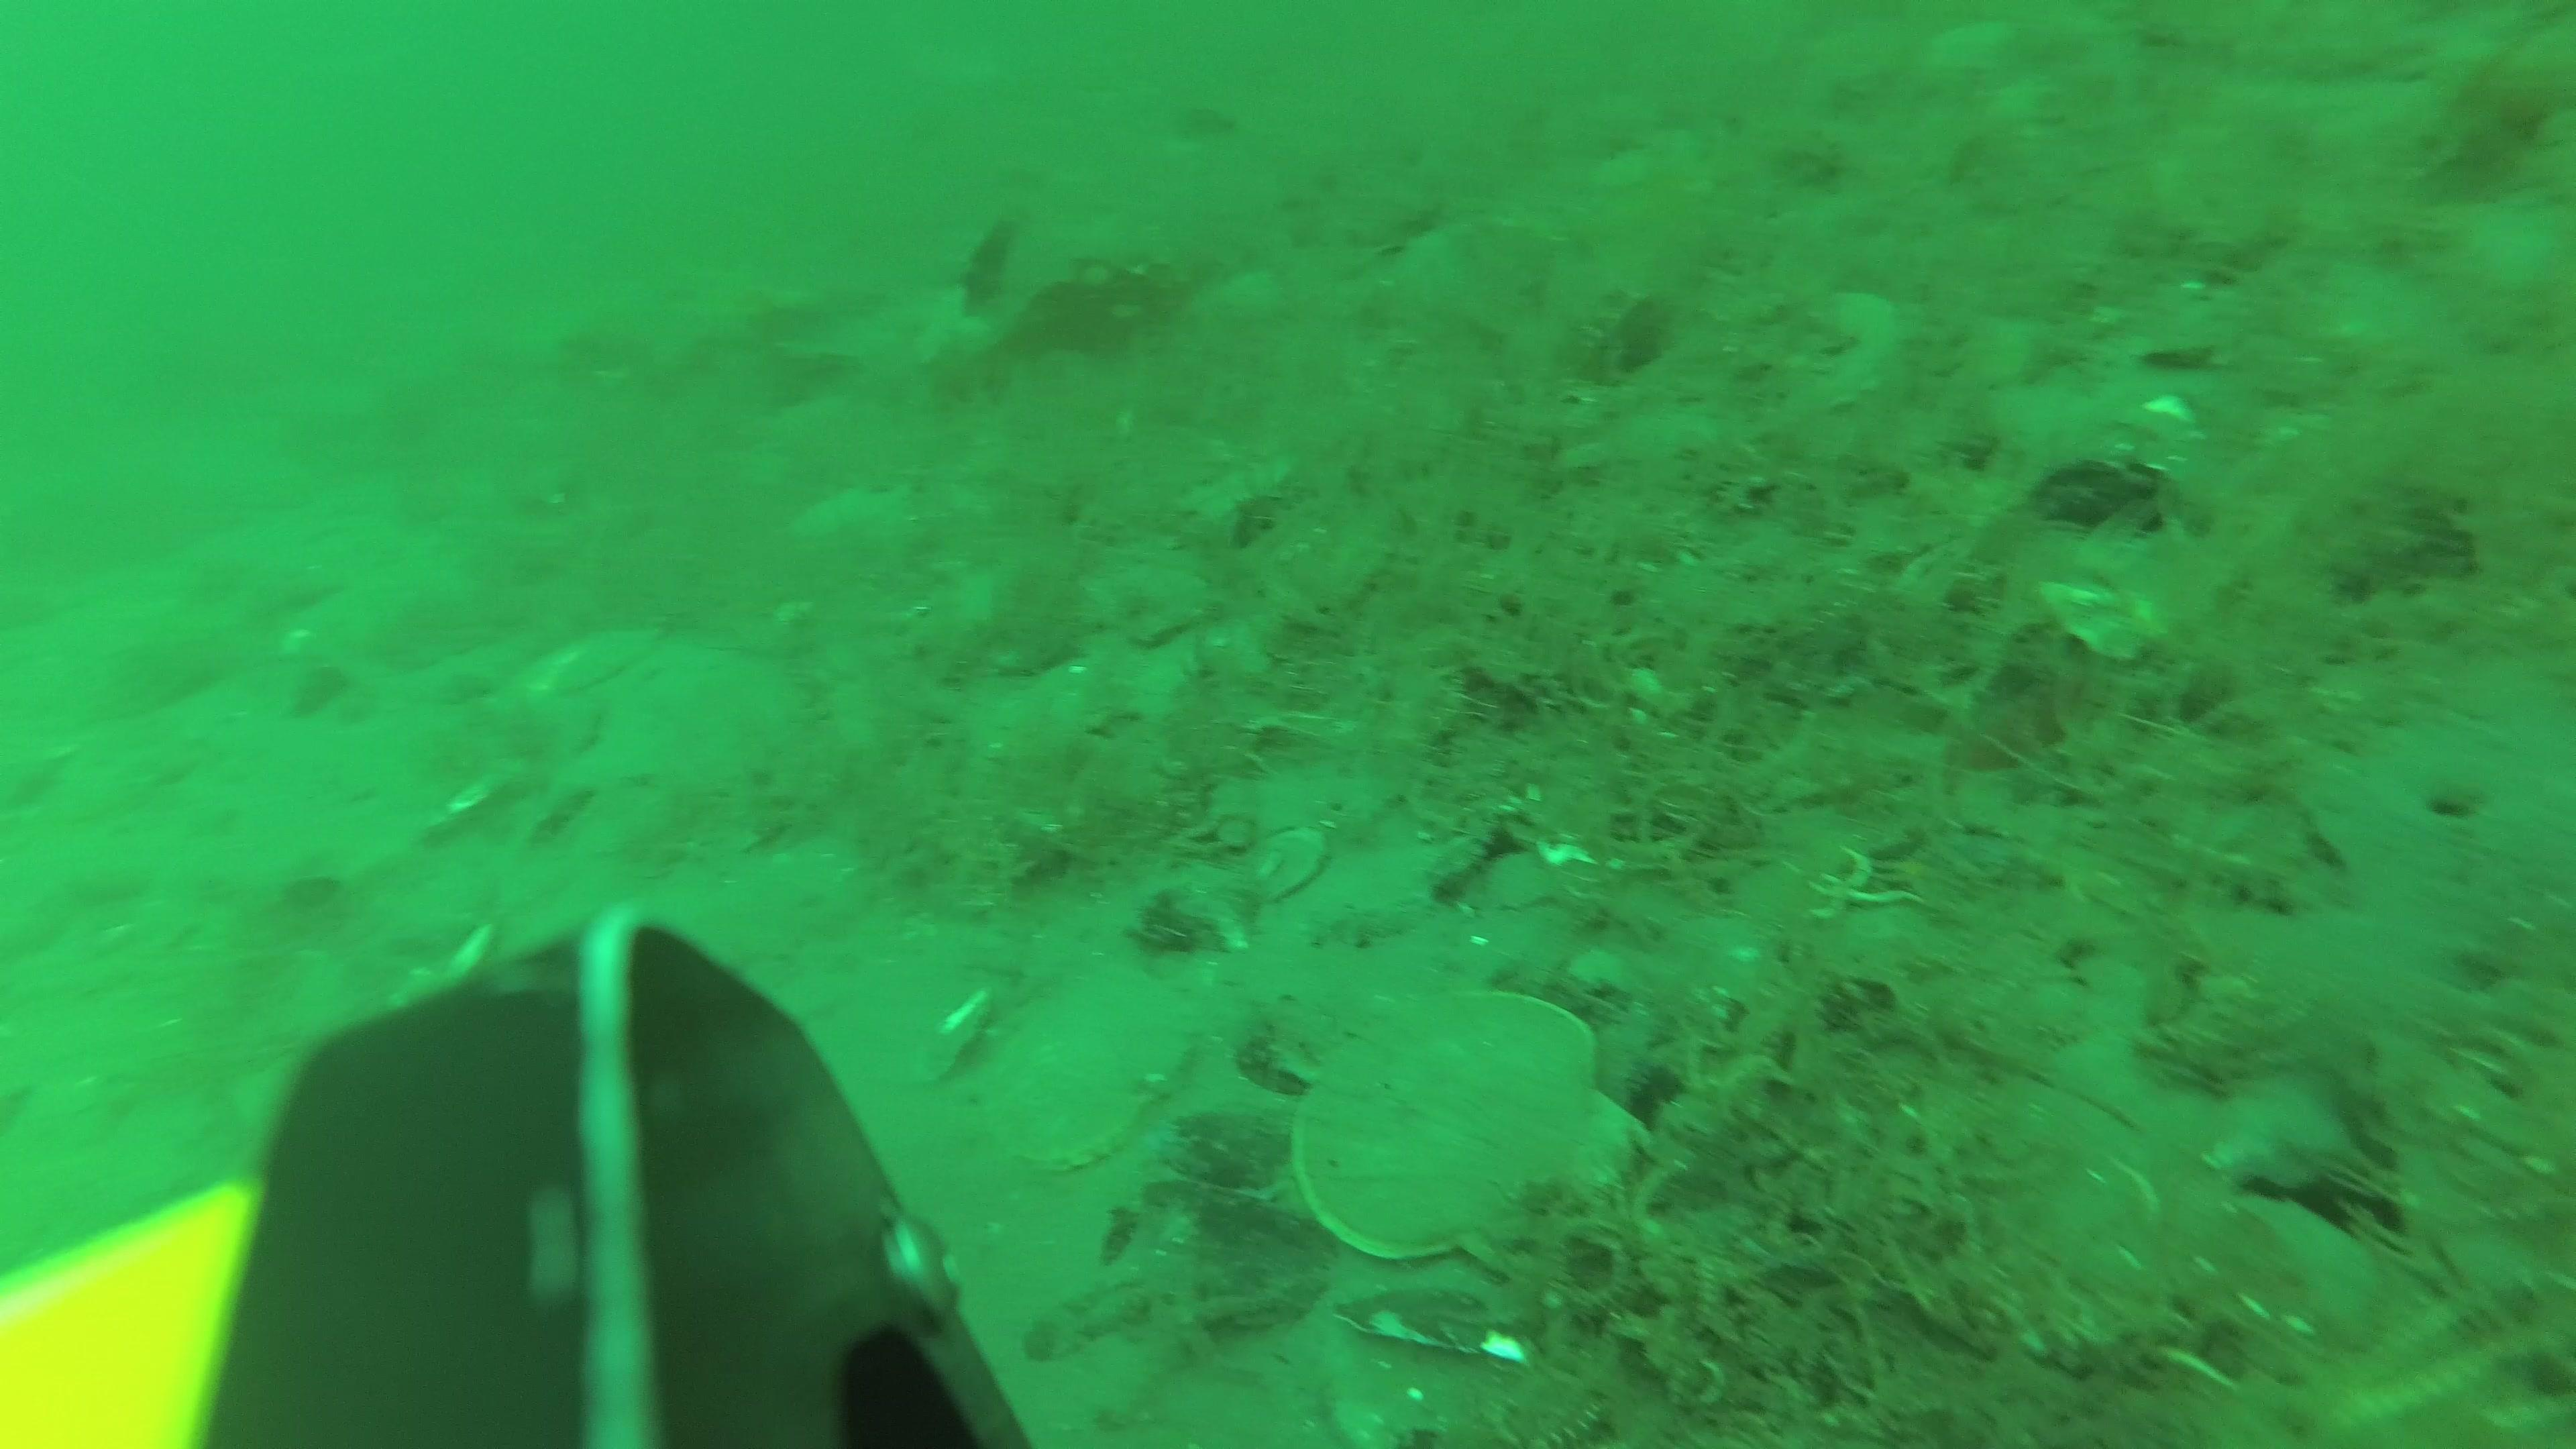scallop: (1292, 996, 1651, 1279), (989, 966, 1194, 1168), (1776, 283, 1902, 414), (515, 621, 663, 697)
